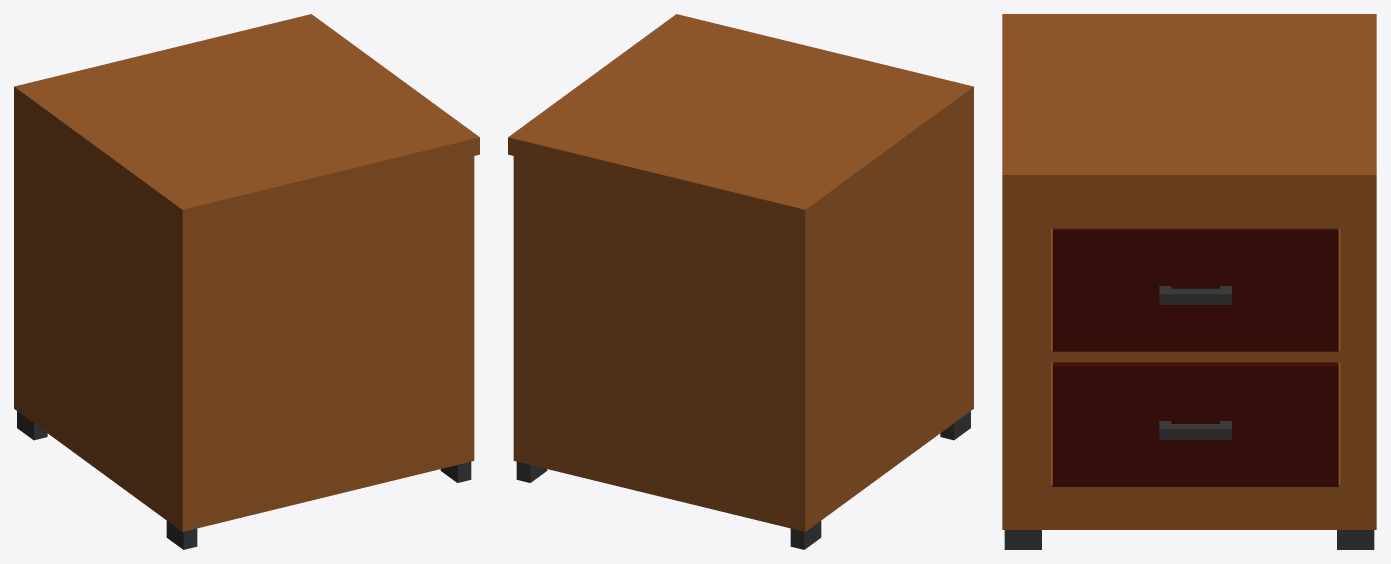
The model's file is CabinetBase.fbx.
3 renders of one model, left to right at view 1: azimuth 30°, elevation 25°; view 2: azimuth 150°, elevation 25°; view 3: azimuth 270°, elevation 25°, orthographic. The views are drawn at different scales.
Parts seen in each view (by area): view 1: CabinetBase; view 2: CabinetBase; view 3: CabinetBase.
Boxes of the visible parts, x1,y1,x2,y2 form: CabinetBase: (14,14,479,549); CabinetBase: (508,14,973,549); CabinetBase: (1002,14,1376,549).
Size of the model in its own units: 2.13 by 2.24 by 2.
